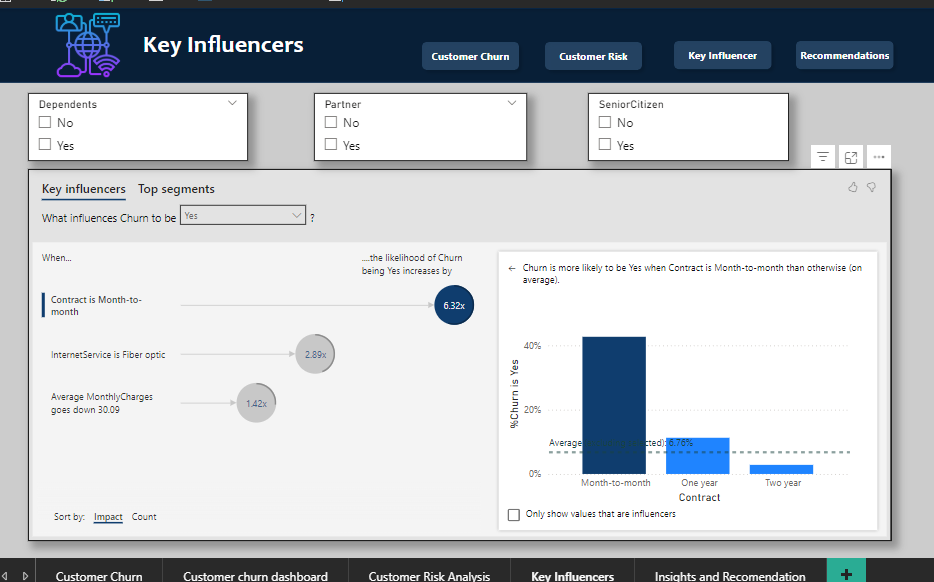

This screenshot's page, from the dashboard's own definition file:
{"tool":"powerbi","page":{"name":"Key Influencers","canvas":[1280,720],"ordinal":3},"visuals":[{"type":"keyDriversVisual","fields":{"Target":["Telco-Customer-Churn.Churn"],"ExplainBy":["Telco-Customer-Churn.Contract","Telco-Customer-Churn.Average MonthlyCharges","Telco-Customer-Churn.gender","Telco-Customer-Churn.InternetService"]},"box":[93.6,210.6,1130,487.2],"z":0},{"type":"slicer","fields":{"Values":["Telco-Customer-Churn.Dependents"]},"box":[93.6,111.5,287.7,89.5],"z":1},{"type":"slicer","fields":{"Values":["Telco-Customer-Churn.Partner"]},"box":[468,111.5,279.4,89.5],"z":2},{"type":"slicer","fields":{"Values":["Telco-Customer-Churn.SeniorCitizen"]},"box":[825.8,111.5,262.9,89.5],"z":3},{"type":"shape","box":[0,0,1280,97.7],"z":4},{"type":"image","box":[121.9,0,98.6,96.8],"z":5},{"type":"textbox","box":[238.1,22,298.7,50.9],"z":6},{"type":"actionButton","box":[599.2,34.8,145.2,54.7],"z":7},{"type":"actionButton","box":[760.7,34.8,145.2,54.7],"z":8},{"type":"actionButton","box":[1088.7,34.4,145.9,55.1],"z":9},{"type":"actionButton","box":[929,34.4,145.9,55.1],"z":10}]}

Visuals, with their boxes on the page's 1280x720 design canvas (x1, y1, x2, y2). These are canvas units, not pixel positions in the 934x582 screenshot, which may show the page scaled, cropped or inside an application window:
keyDriversVisual - Telco-Customer-Churn.Churn x Telco-Customer-Churn.Contract: rect(94, 211, 1224, 698)
slicer - Telco-Customer-Churn.Dependents: rect(94, 112, 381, 201)
slicer - Telco-Customer-Churn.Partner: rect(468, 112, 747, 201)
slicer - Telco-Customer-Churn.SeniorCitizen: rect(826, 112, 1089, 201)
shape: rect(0, 0, 1280, 98)
image: rect(122, 0, 220, 97)
textbox: rect(238, 22, 537, 73)
actionButton: rect(599, 35, 744, 90)
actionButton: rect(761, 35, 906, 90)
actionButton: rect(1089, 34, 1235, 90)
actionButton: rect(929, 34, 1075, 90)
